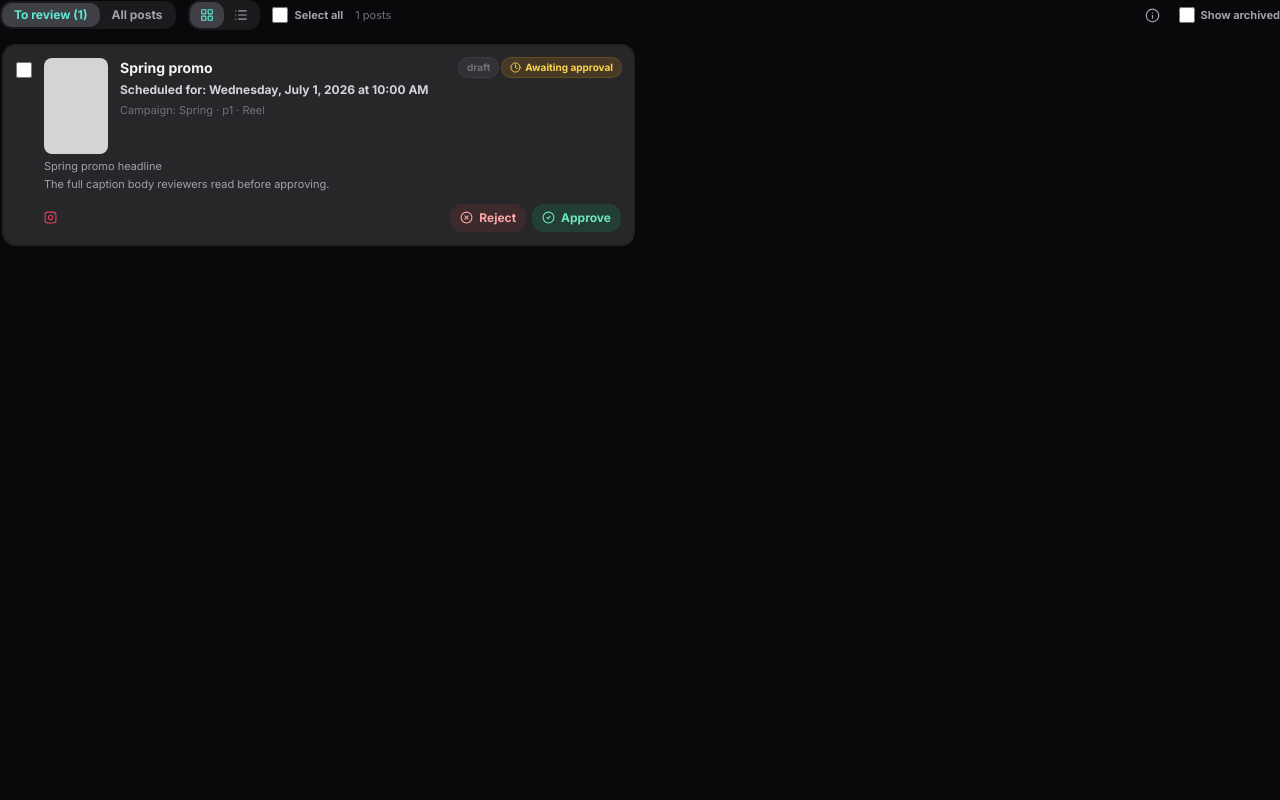
Test: Freigaben focused-card a/r keyboard shortcuts › cancelling the reject prompt sends nothing and shows no error alert
This screenshot has width=1280, height=800.
Type keys "r"
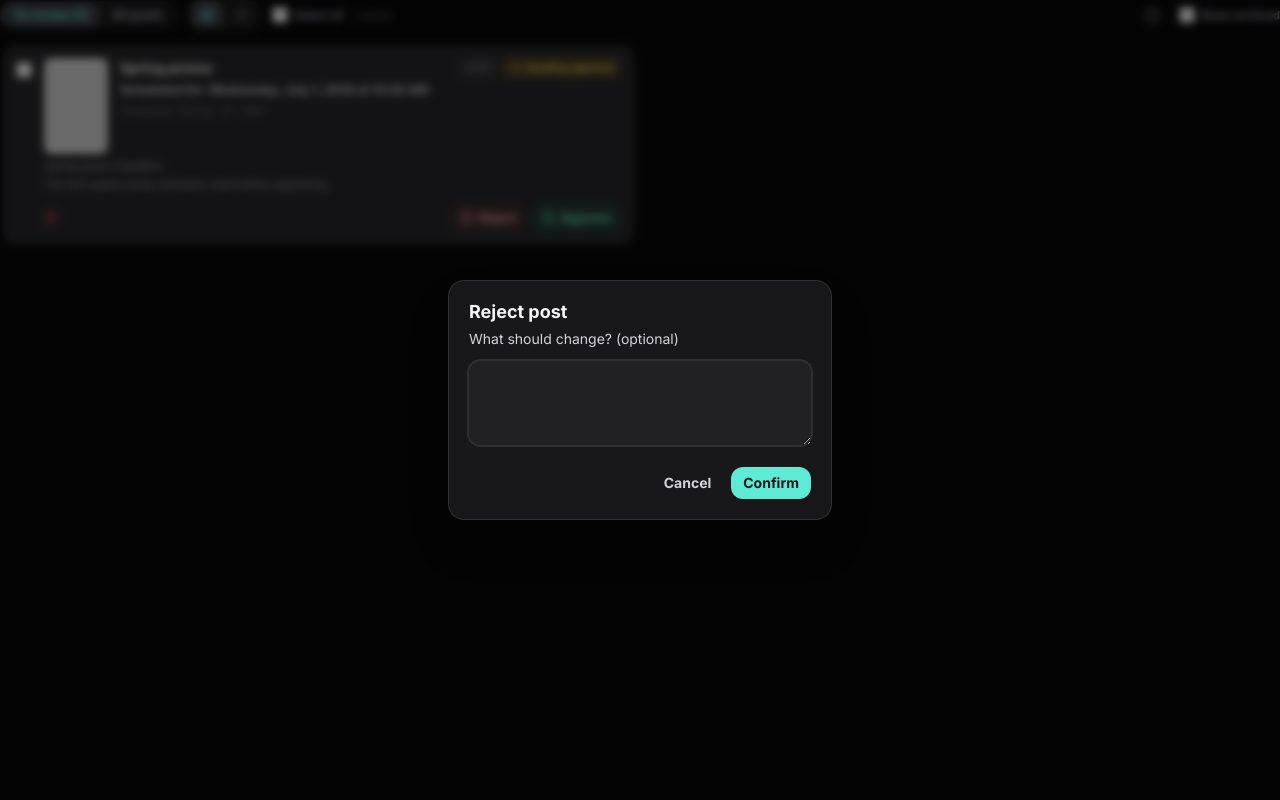
Click the button "Cancel" at (688, 483), box [652,467,723,499]
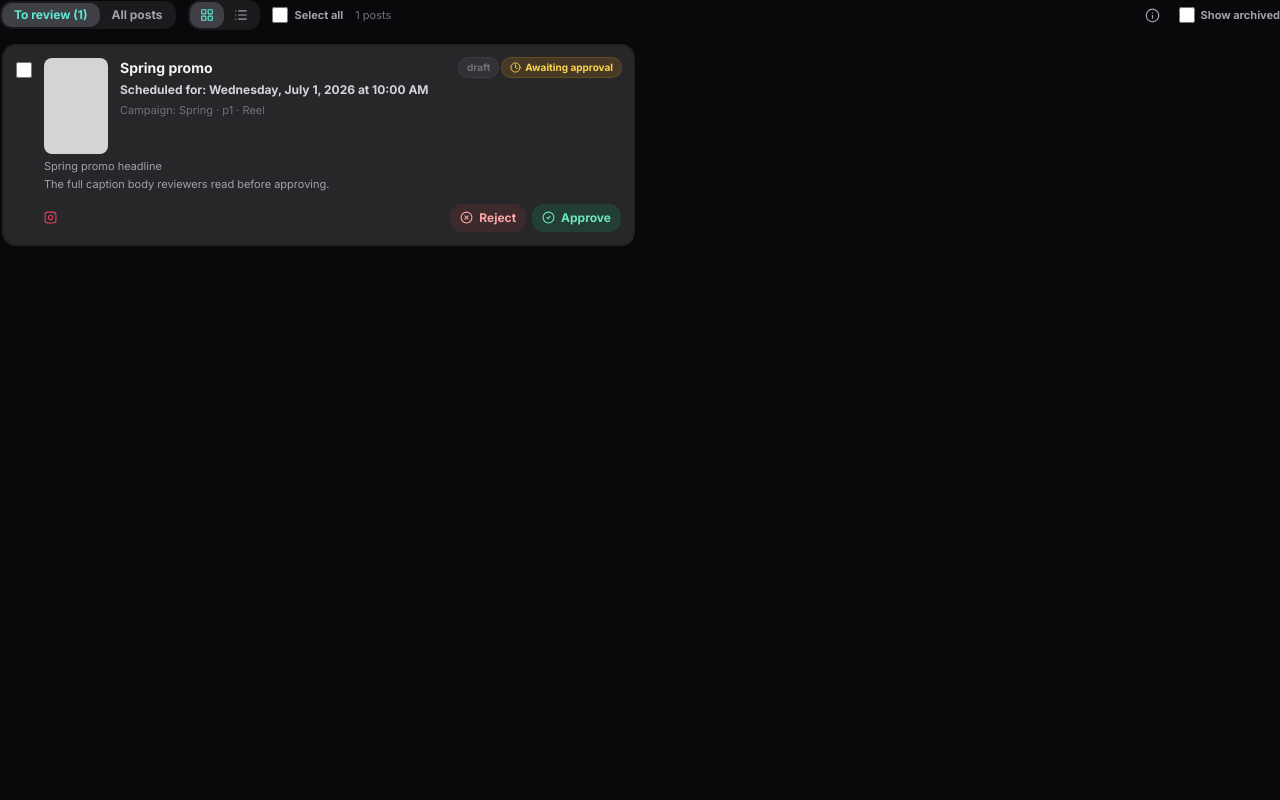
Result: the dialog is gone
